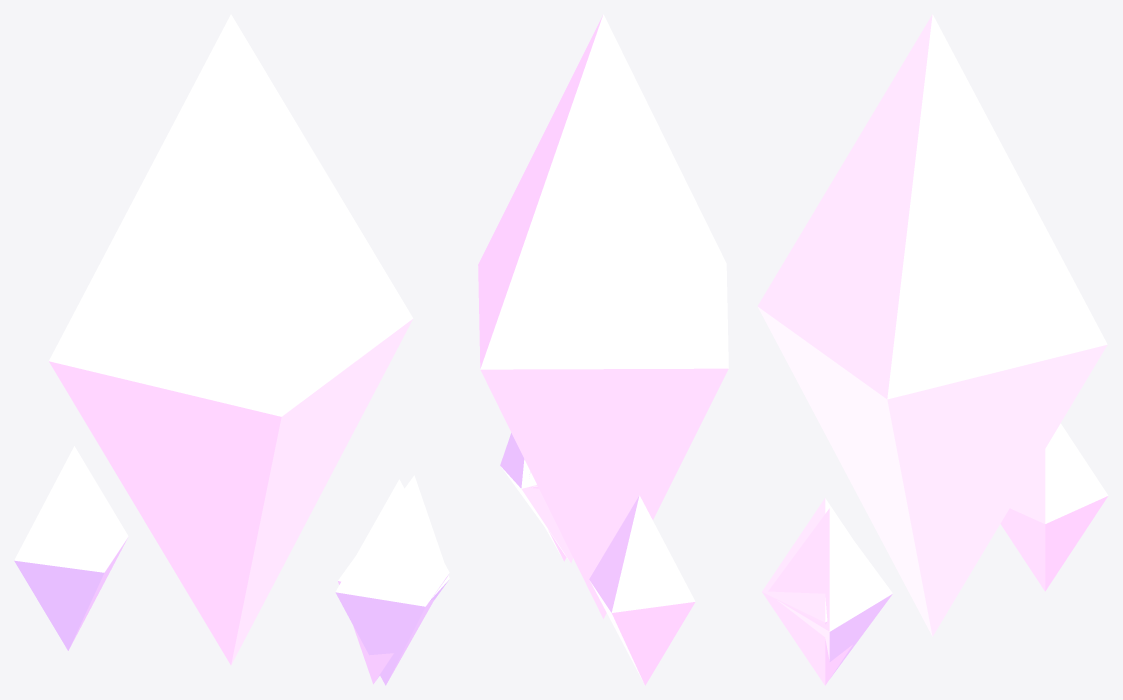
Rendered from crystal_1.glb.
3 renders of one model, left to right at view 1: azimuth 30°, elevation 25°; view 2: azimuth 150°, elevation 25°; view 3: azimuth 270°, elevation 25°, orthographic. The views are drawn at different scales.
Parts seen in each view (by area): view 1: crystal_1; view 2: crystal_1; view 3: crystal_1.
Part boxes in pixels (x1=…): crystal_1: x1=14, y1=14, x2=449, y2=685; crystal_1: x1=478, y1=14, x2=728, y2=685; crystal_1: x1=757, y1=14, x2=1108, y2=685.
Size of the model in its own units: 0.7902 by 1.53 by 0.7762.
